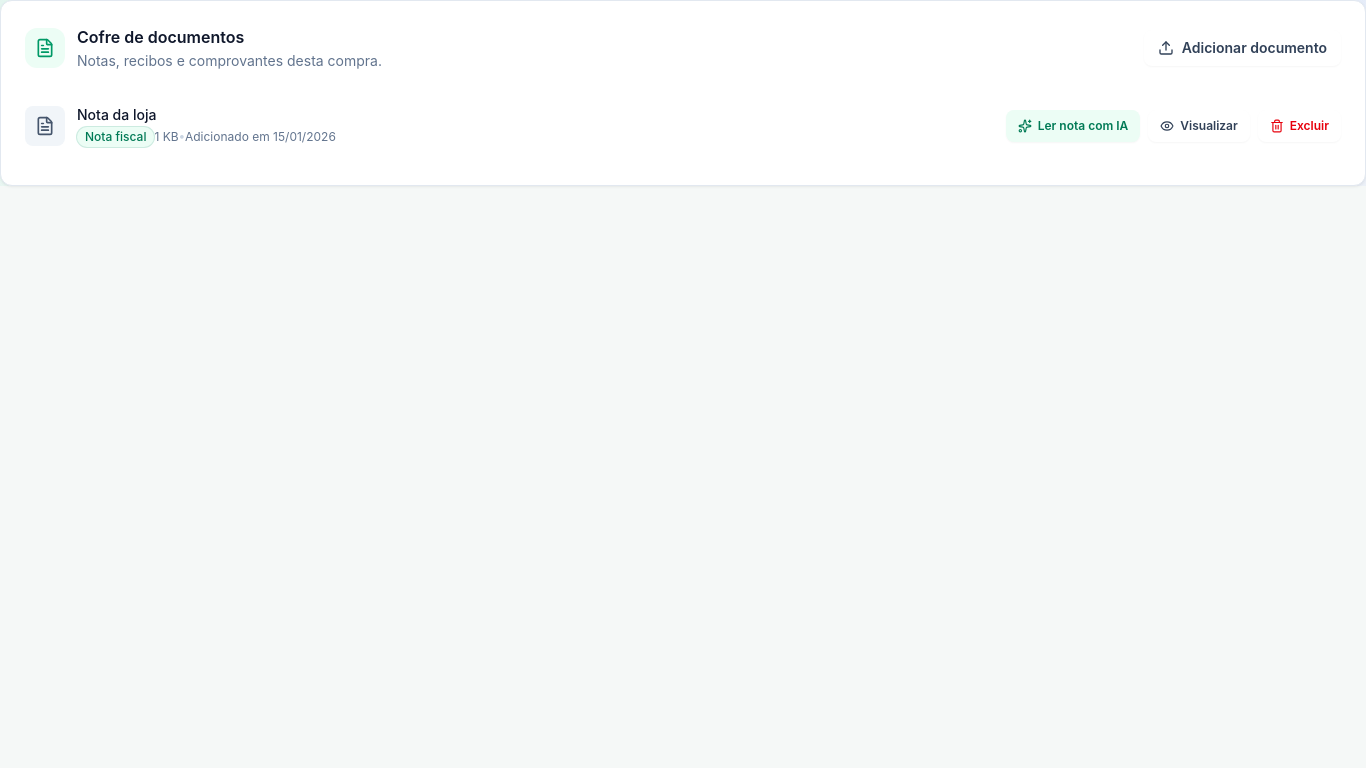
it: PurchaseDocumentsSection — confirmação de exclusão de documento › erro de API (ApiError) exibe a mensagem retornada, mantendo o tratamento atual
Expected: the text "Nota da loja" is shown, [77,106,156,123]
Click the button "Excluir".
click(1299, 126)  # box [1258,110,1341,142]
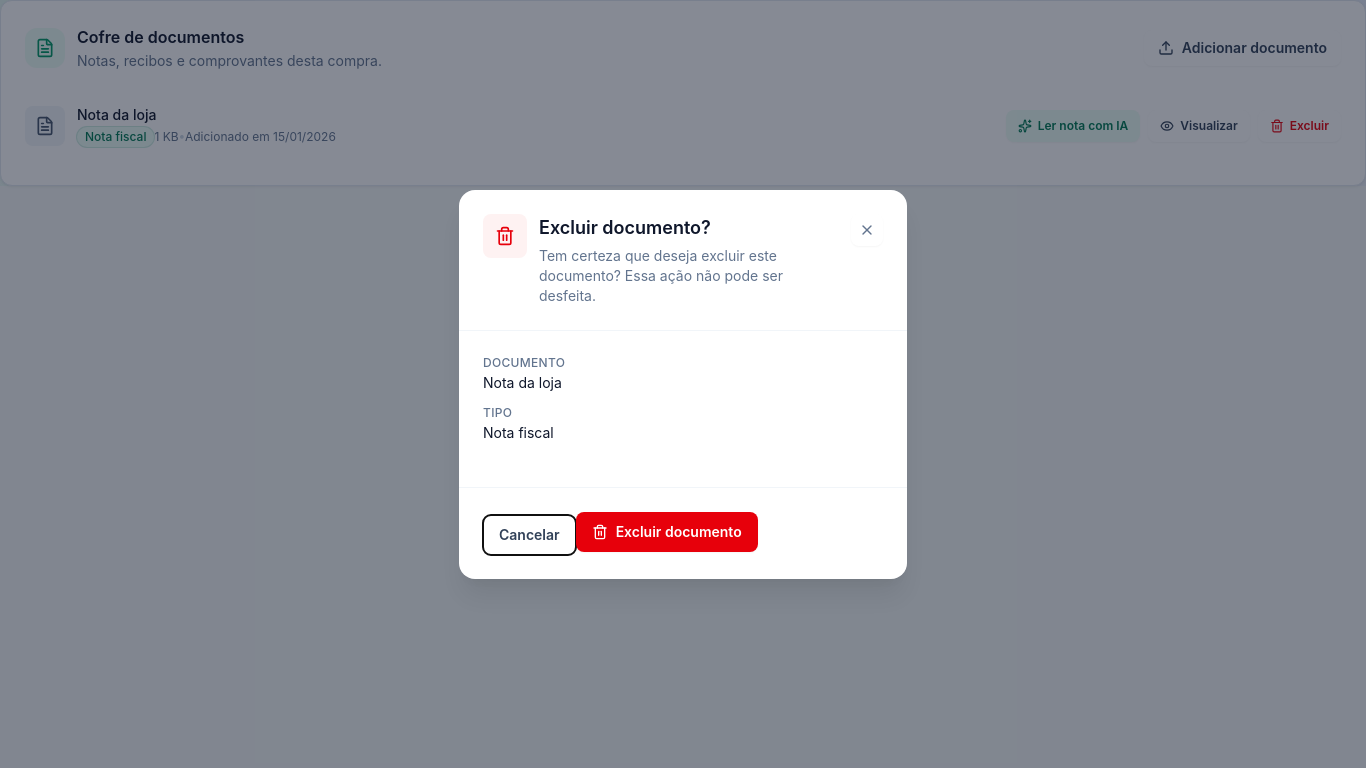
Expected: the dialog is shown
Click the button "Excluir documento".
click(667, 532)  # box [576,512,758,552]
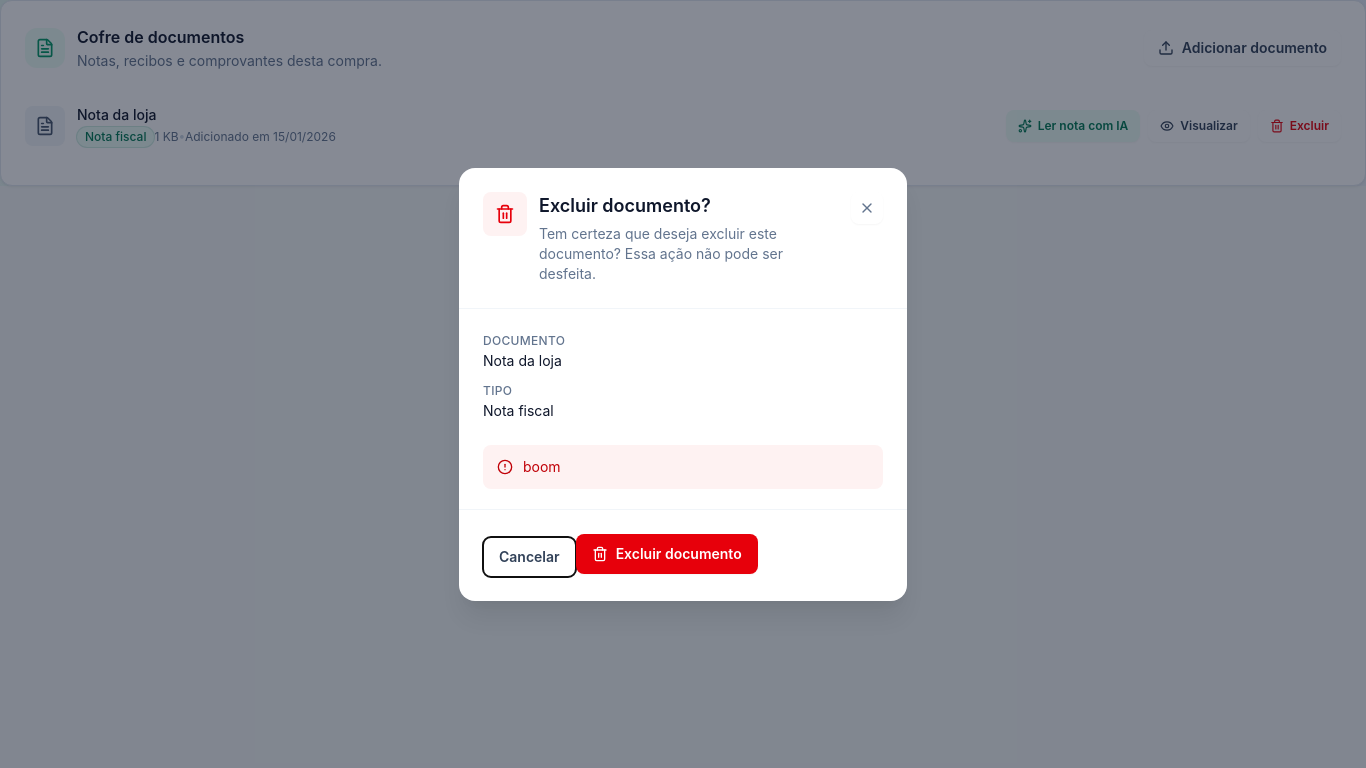
Expected: the dialog is shown
Expected: the text "boom" is shown, [523,456,561,476]
